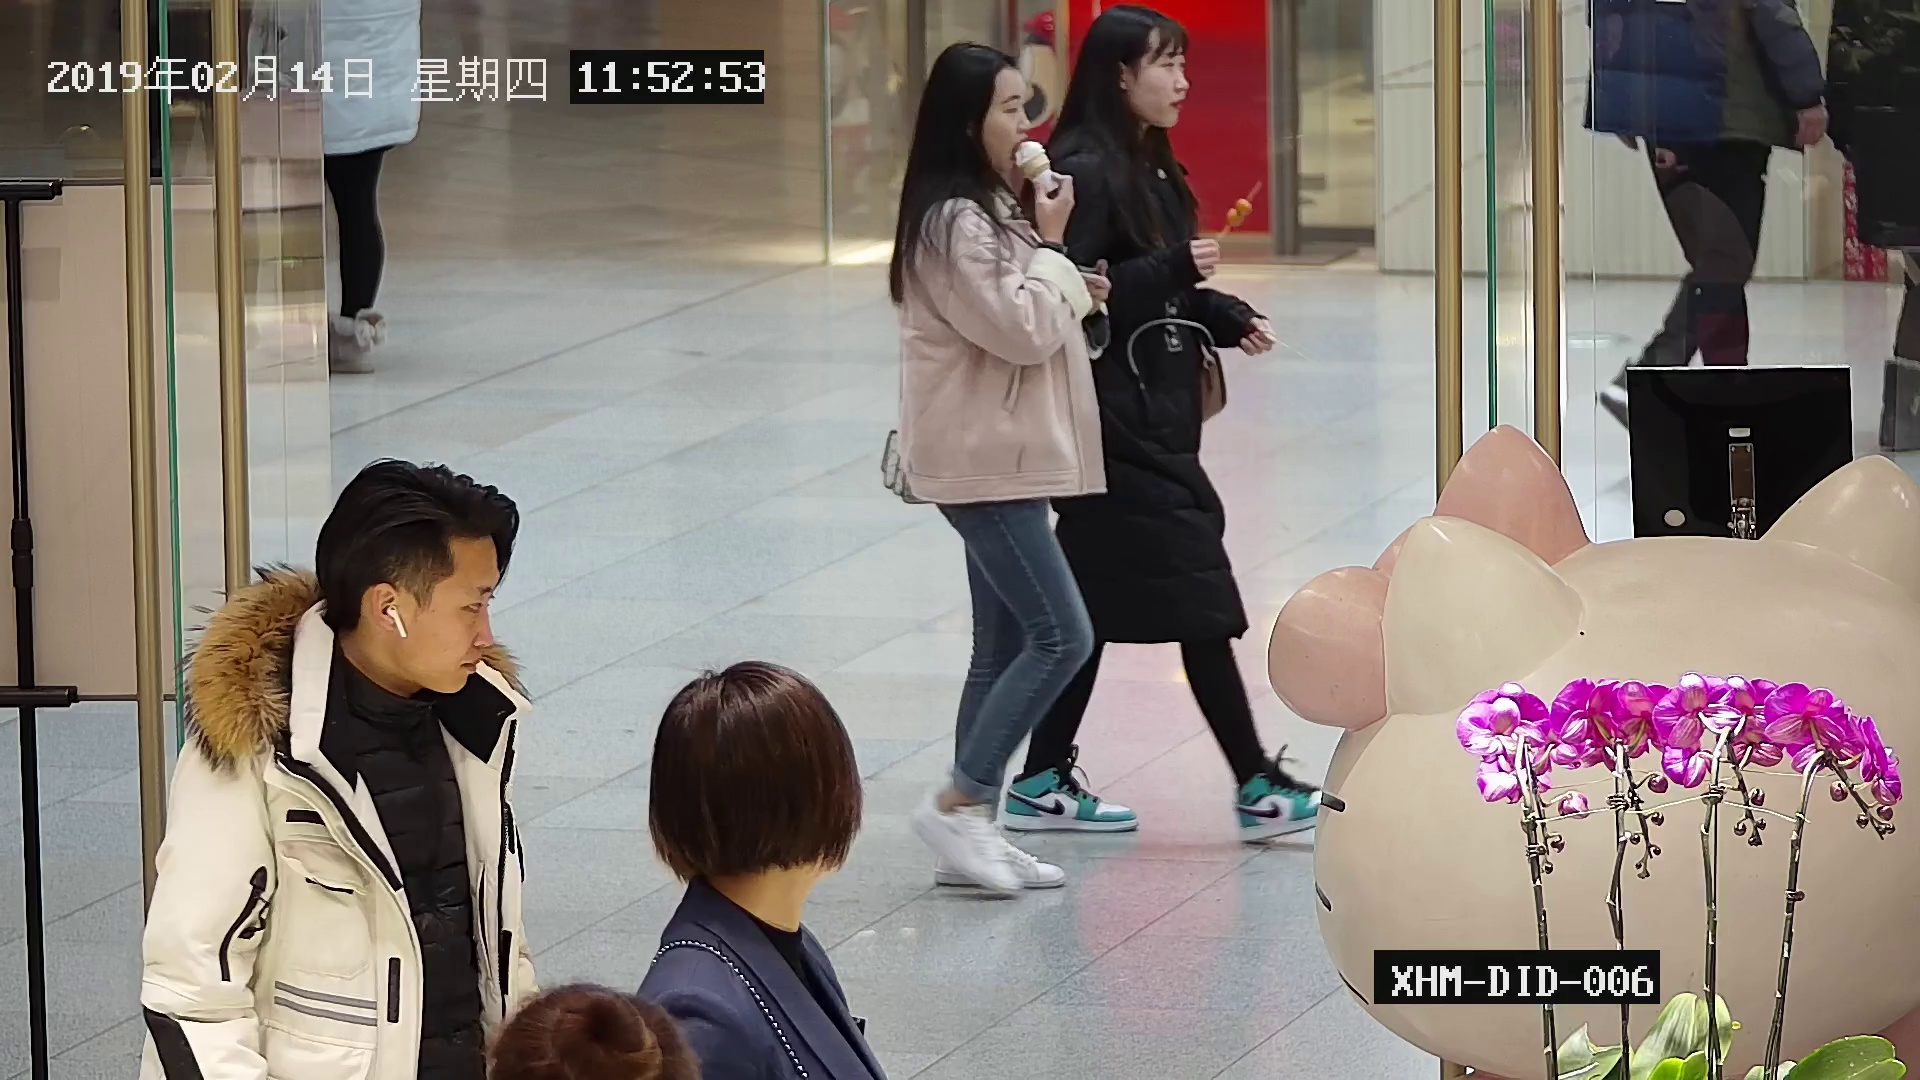head: (314, 451, 517, 692), (646, 656, 855, 883), (855, 156, 955, 456), (489, 980, 702, 1077), (930, 35, 1031, 172), (1092, 0, 1191, 129)
